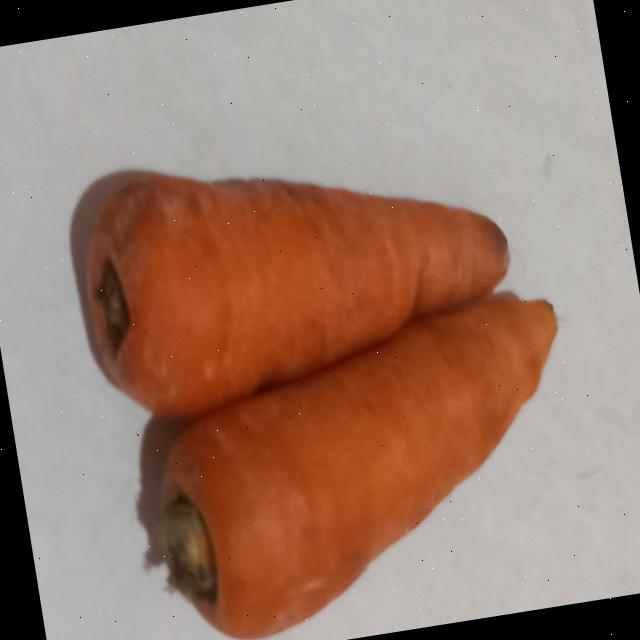carrot: (164, 295, 557, 639), (87, 172, 509, 416)
